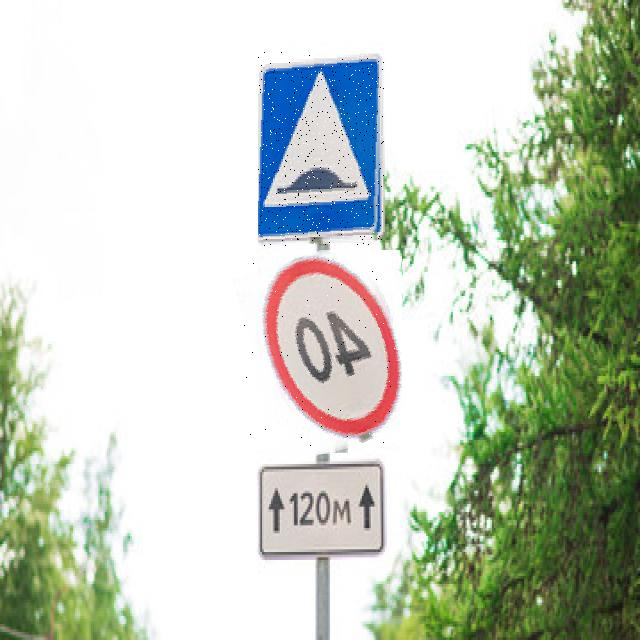hump: (258, 52, 384, 247)
speed limit 40: (244, 250, 402, 457)
